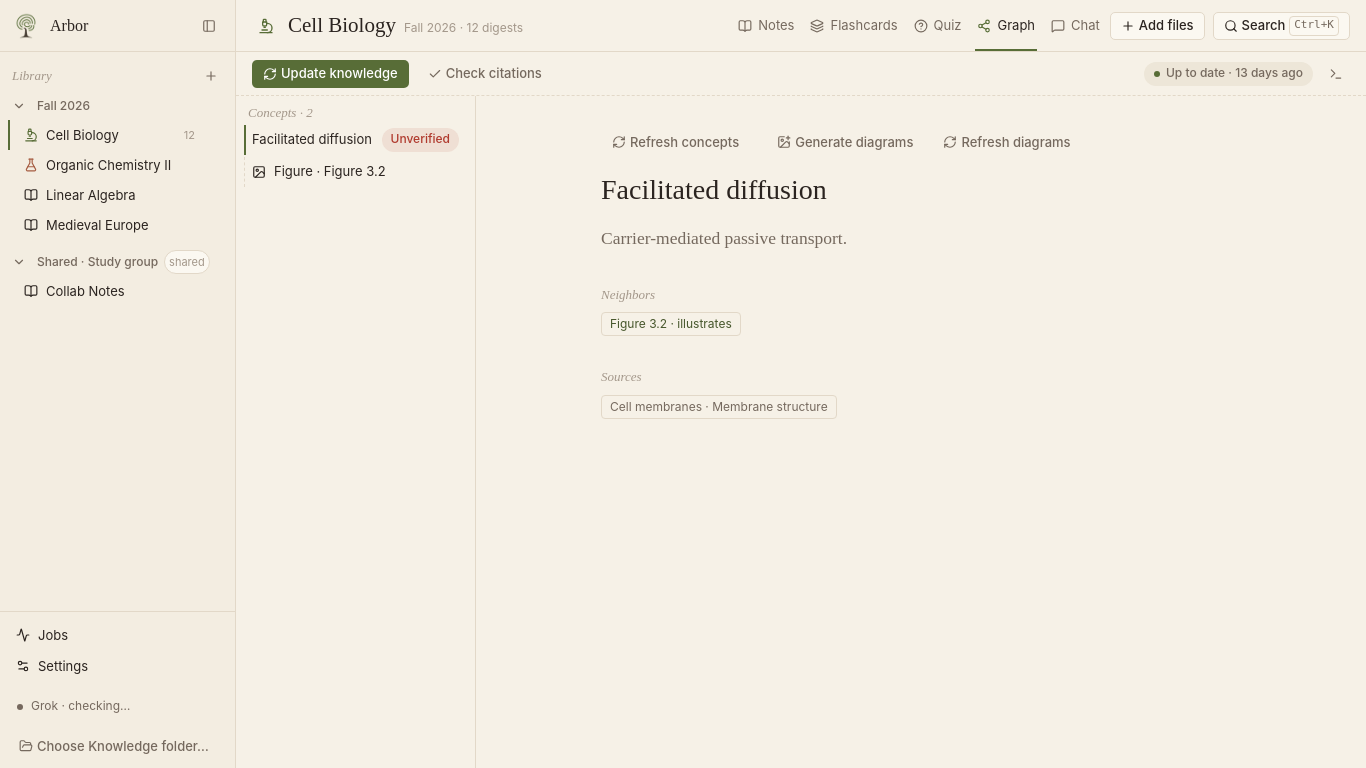
Test case: graph PR10 › renders concept list with figure and unverified styling
Check: the element with test id "graph-view" is shown, box top-left (236, 96), bottom-right (1082, 767)
Check: the button "Refresh concepts" is shown, box top-left (601, 128), bottom-right (750, 156)
Hover over the text "Unverified" at (420,140), box top-left (382, 128), bottom-right (459, 152)
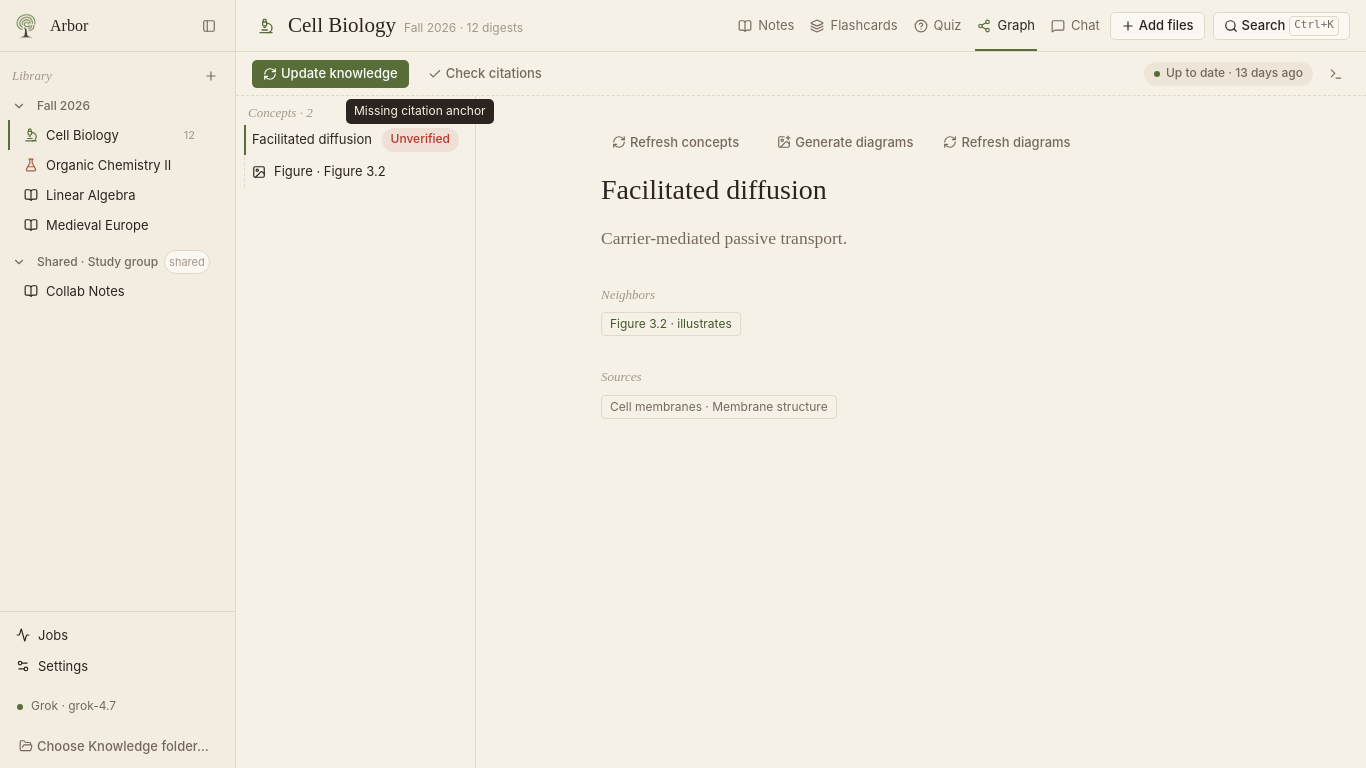
Check: the text "Missing citation anchor" is shown, box top-left (346, 99), bottom-right (494, 124)
